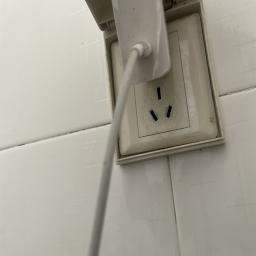outlet: (77, 4, 242, 157)
